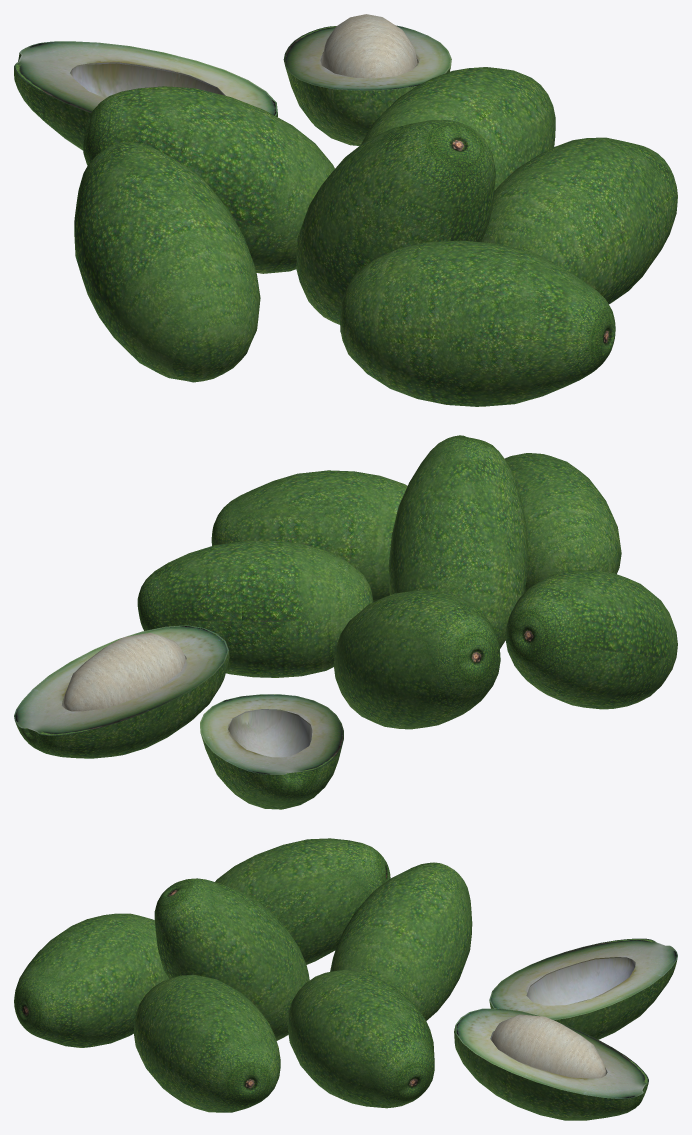
The model's file is Food_026.FBX.
3 renders of one model, top to bottom at view 1: azimuth 30°, elevation 25°; view 2: azimuth 150°, elevation 25°; view 3: azimuth 270°, elevation 25°, orthographic. The views are drawn at different scales.
Parts seen in each view (by area): view 1: Model_026_Avocado_04, Model_026_Avocado_06, Model_026_Avocado_03, Model_026_Avocado_07, Model_026_Avocado_05, Model_026_Avocado_00, Model_026_Avocado_08, Model_026_Avocado_01, Model_026_Avocado_02; view 2: Model_026_Avocado_08, Model_026_Avocado_03, Model_026_Avocado_06, Model_026_Avocado_07, Model_026_Avocado_01, Model_026_Avocado_05, Model_026_Avocado_00, Model_026_Avocado_04, Model_026_Avocado_02; view 3: Model_026_Avocado_08, Model_026_Avocado_05, Model_026_Avocado_04, Model_026_Avocado_03, Model_026_Avocado_07, Model_026_Avocado_00, Model_026_Avocado_06, Model_026_Avocado_01, Model_026_Avocado_02.
Boxes of the visible parts, x1,y1,x2,y2 form: Model_026_Avocado_04: [340, 240, 615, 406]; Model_026_Avocado_06: [74, 142, 260, 382]; Model_026_Avocado_03: [296, 120, 495, 324]; Model_026_Avocado_07: [83, 86, 334, 273]; Model_026_Avocado_05: [481, 137, 677, 304]; Model_026_Avocado_00: [14, 41, 277, 150]; Model_026_Avocado_08: [361, 67, 555, 190]; Model_026_Avocado_01: [283, 25, 451, 145]; Model_026_Avocado_02: [321, 14, 417, 78]; Model_026_Avocado_08: [137, 540, 373, 677]; Model_026_Avocado_03: [388, 435, 528, 648]; Model_026_Avocado_06: [505, 570, 677, 709]; Model_026_Avocado_07: [333, 590, 500, 729]; Model_026_Avocado_01: [14, 625, 229, 758]; Model_026_Avocado_05: [211, 470, 407, 601]; Model_026_Avocado_00: [200, 694, 343, 809]; Model_026_Avocado_04: [504, 453, 621, 592]; Model_026_Avocado_02: [63, 633, 185, 711]; Model_026_Avocado_08: [287, 969, 434, 1108]; Model_026_Avocado_05: [134, 974, 280, 1112]; Model_026_Avocado_04: [14, 913, 168, 1047]; Model_026_Avocado_03: [154, 878, 309, 1040]; Model_026_Avocado_07: [330, 862, 472, 1020]; Model_026_Avocado_00: [489, 938, 677, 1039]; Model_026_Avocado_06: [215, 838, 390, 964]; Model_026_Avocado_01: [454, 1008, 648, 1120]; Model_026_Avocado_02: [491, 1014, 606, 1078].
Size of the model in its own units: 8.67 by 3.44 by 12.22.
